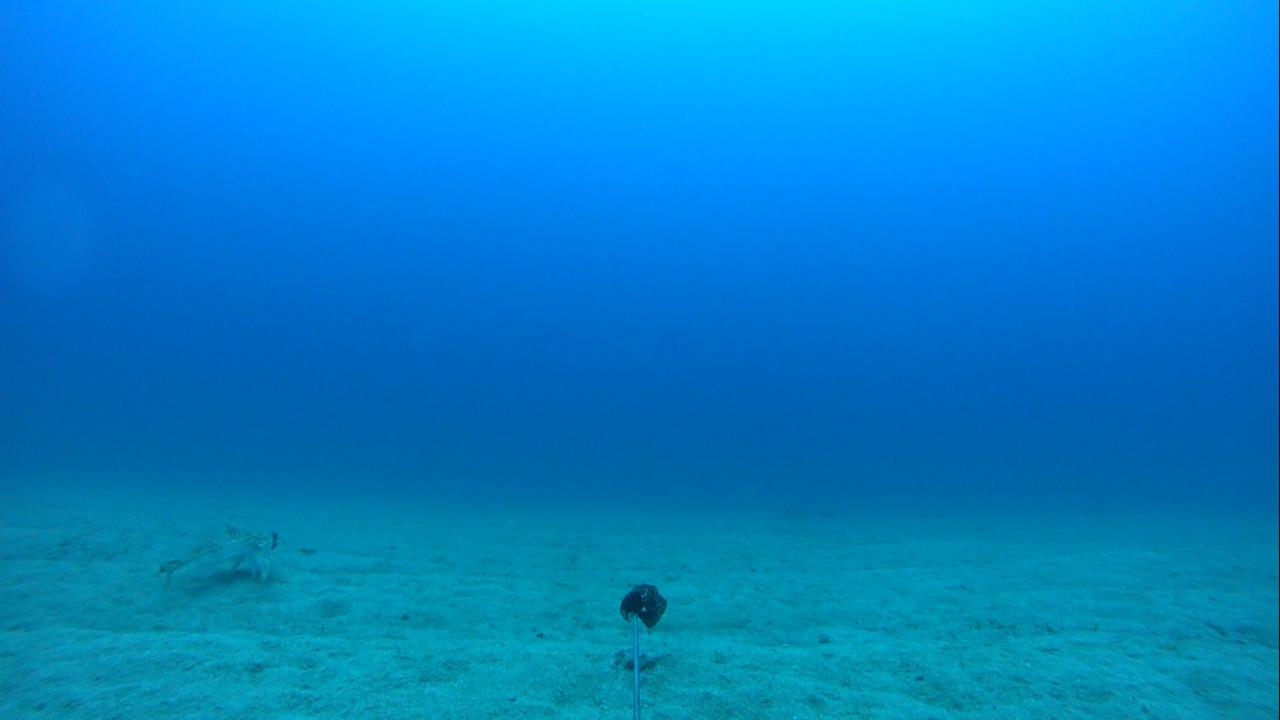dactylopterus: (143, 519, 286, 595)
